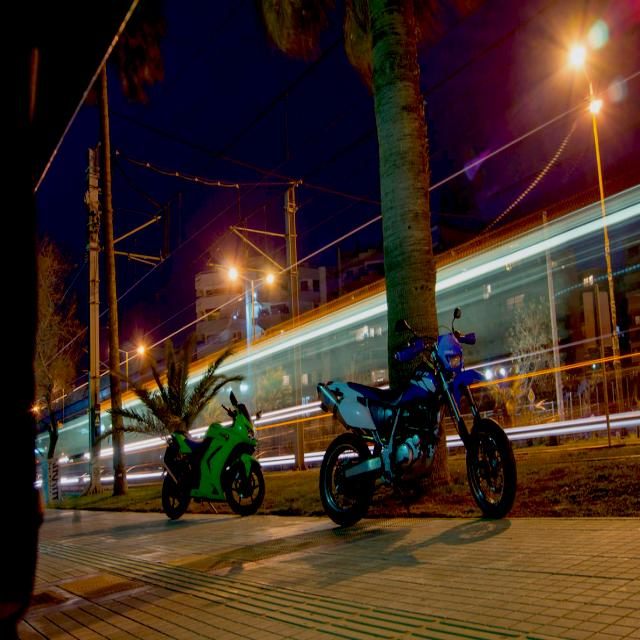Motorbike: (315, 311, 514, 529), (163, 387, 274, 536)
